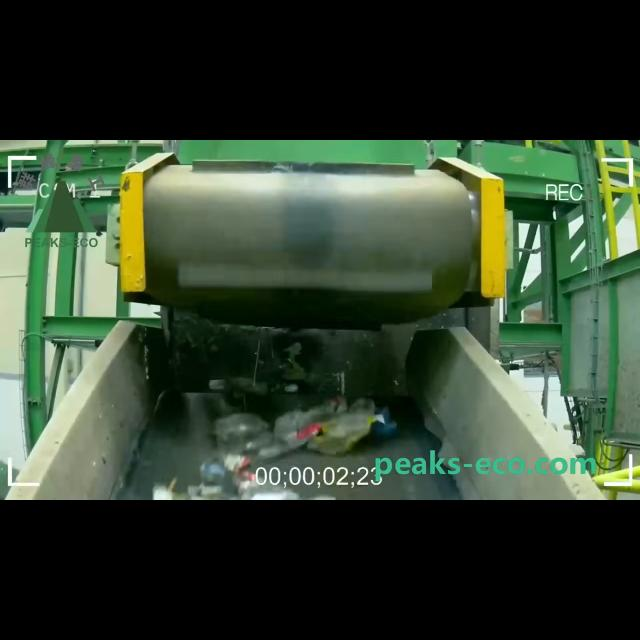trash: (274, 396, 344, 434), (260, 427, 322, 461), (212, 411, 270, 442)
